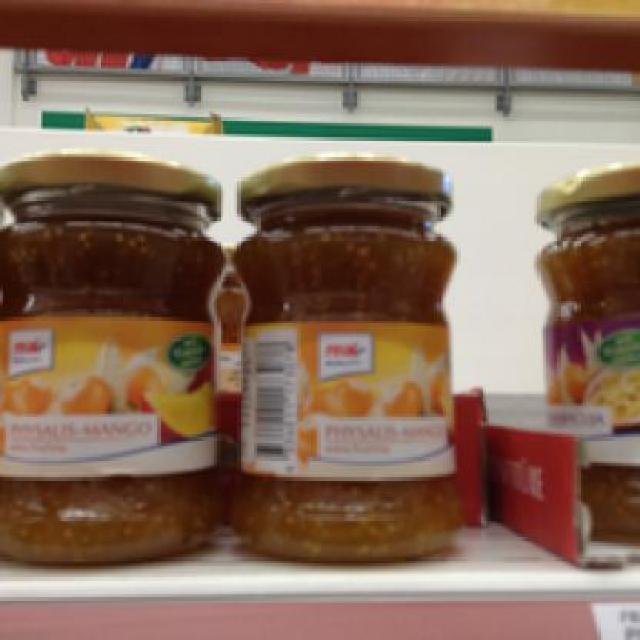Jam: (229, 154, 460, 557), (0, 154, 220, 566), (532, 160, 638, 549)
